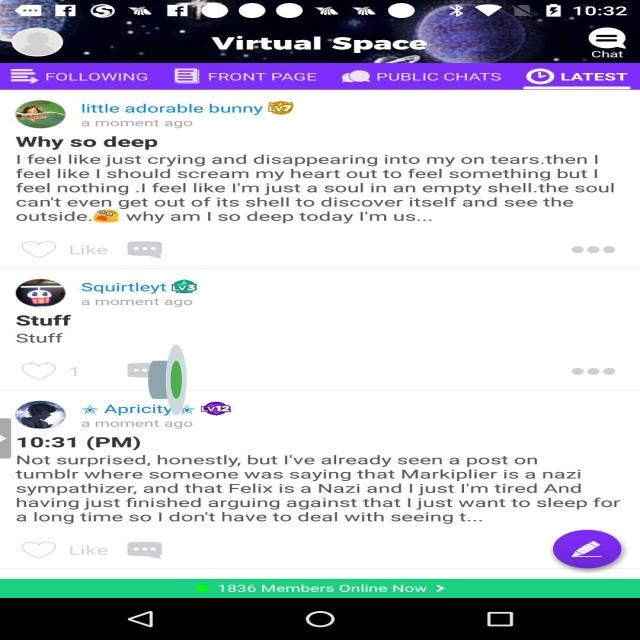social proof: (148, 314, 187, 446)
